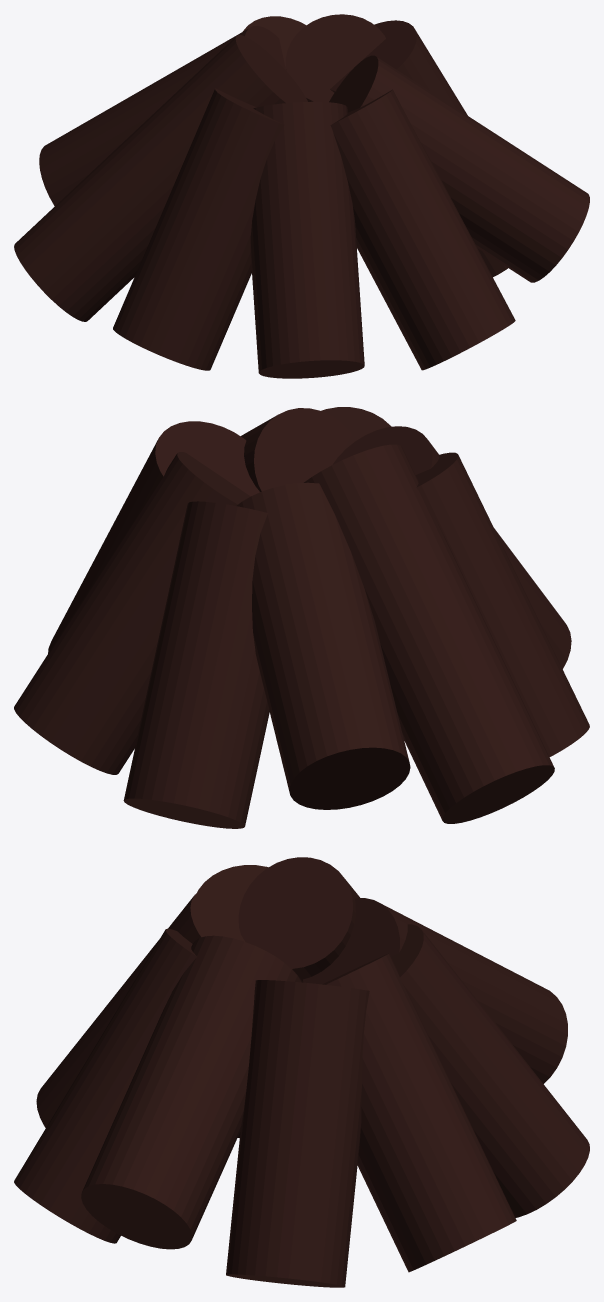
The model's file is campfire.fbx.
The picture shows the model from 3 angles, top to bottom: view 1: azimuth 30°, elevation 25°; view 2: azimuth 150°, elevation 25°; view 3: azimuth 270°, elevation 25°; orthographic projection. The views are drawn at different scales.
Parts seen in each view (by area): view 1: Cylinder; view 2: Cylinder; view 3: Cylinder.
Boxes of the visible parts, bbox=[...] form: Cylinder: bbox=[14, 14, 589, 378]; Cylinder: bbox=[14, 407, 589, 828]; Cylinder: bbox=[14, 857, 589, 1287].
Bounding box in the file's own units: 1004 × 583 × 960.
